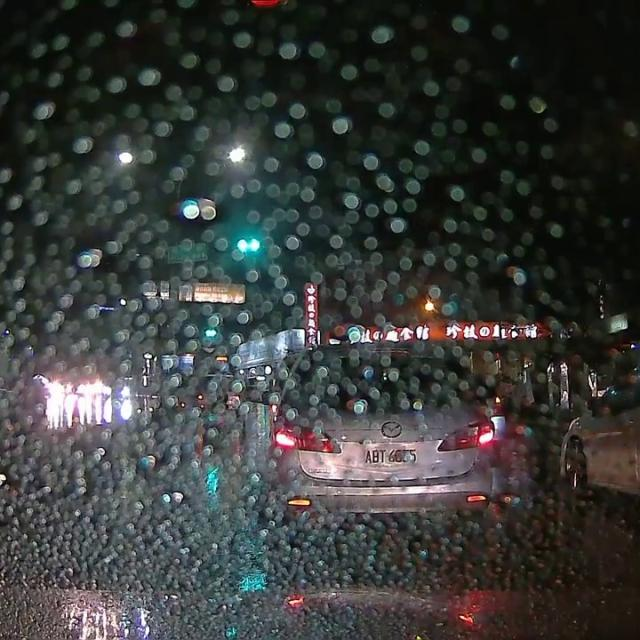Car: (268, 337, 493, 519), (555, 359, 639, 493), (187, 371, 246, 435)
